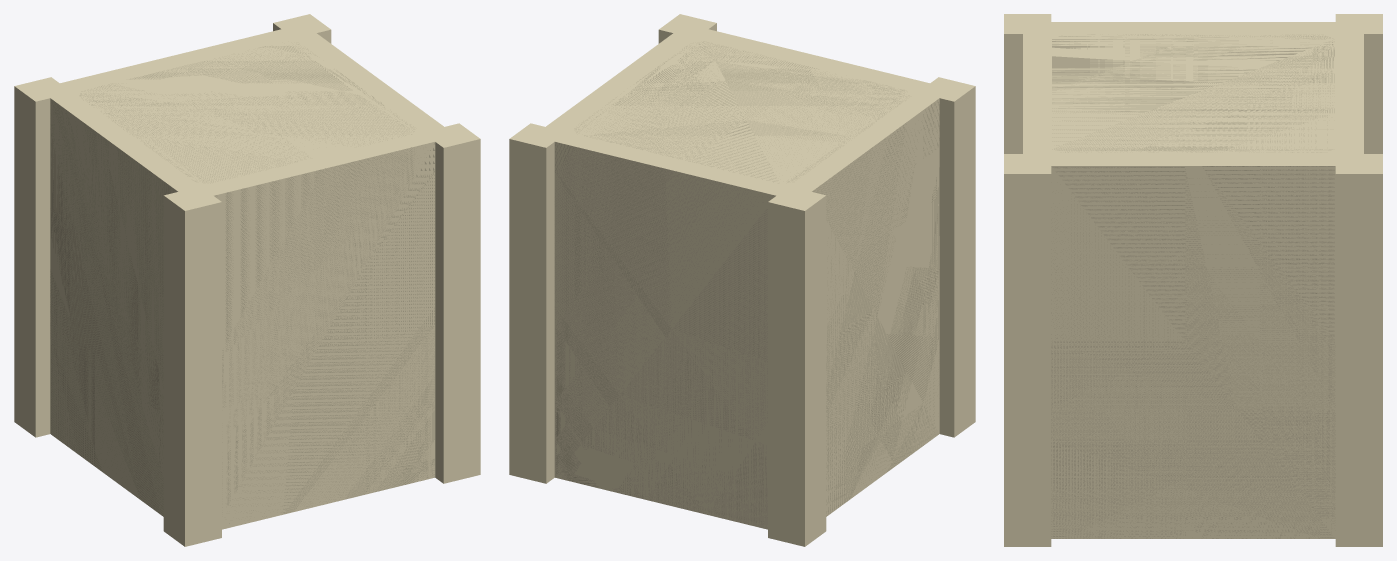
The model's file is towerSquareMid.obj.
3 views of the same model, side by side, from view 1: azimuth 30°, elevation 25°; view 2: azimuth 150°, elevation 25°; view 3: azimuth 270°, elevation 25° (orthographic). The views are drawn at different scales.
Visible parts, largest first — view 1: towerSquareMid; view 2: towerSquareMid; view 3: towerSquareMid.
Part boxes in pixels (box(x1,y1,x2,y2)): towerSquareMid: box(14, 14, 480, 546); towerSquareMid: box(509, 14, 975, 546); towerSquareMid: box(1004, 14, 1382, 546).
Size of the model in its own units: 9.3 by 10.1 by 9.3.
